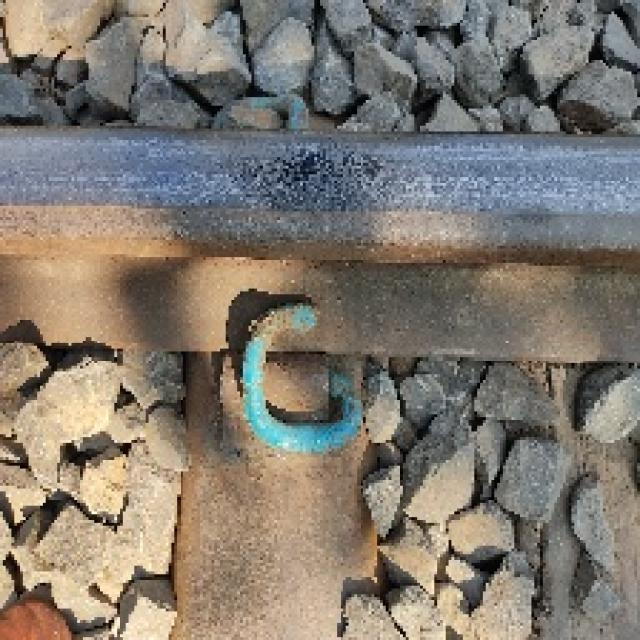Good Fasteners: (223, 306, 357, 466)
